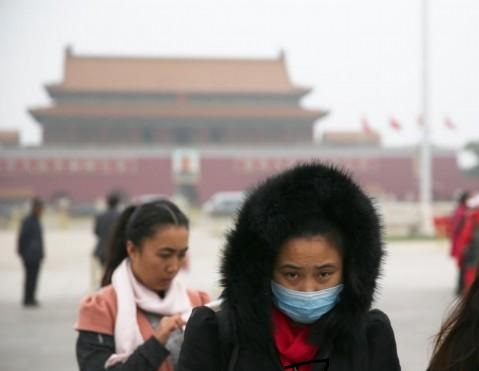face_mask: (268, 234, 344, 322), (134, 228, 188, 290)
